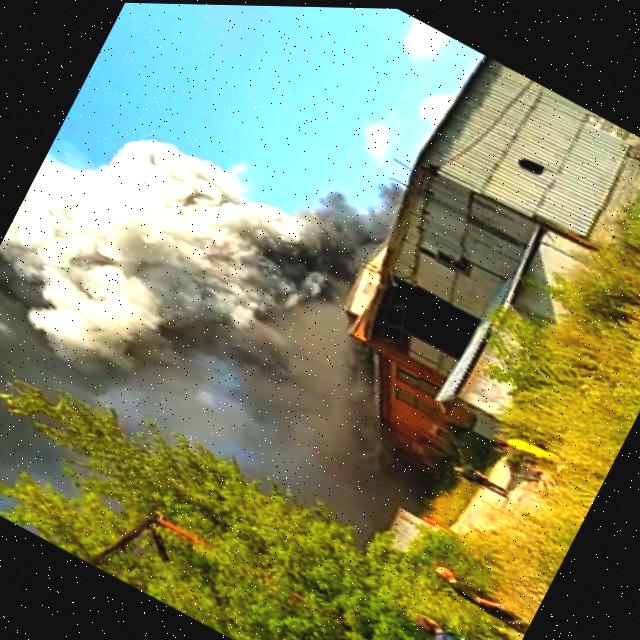Smoke: (0, 28, 412, 621)
